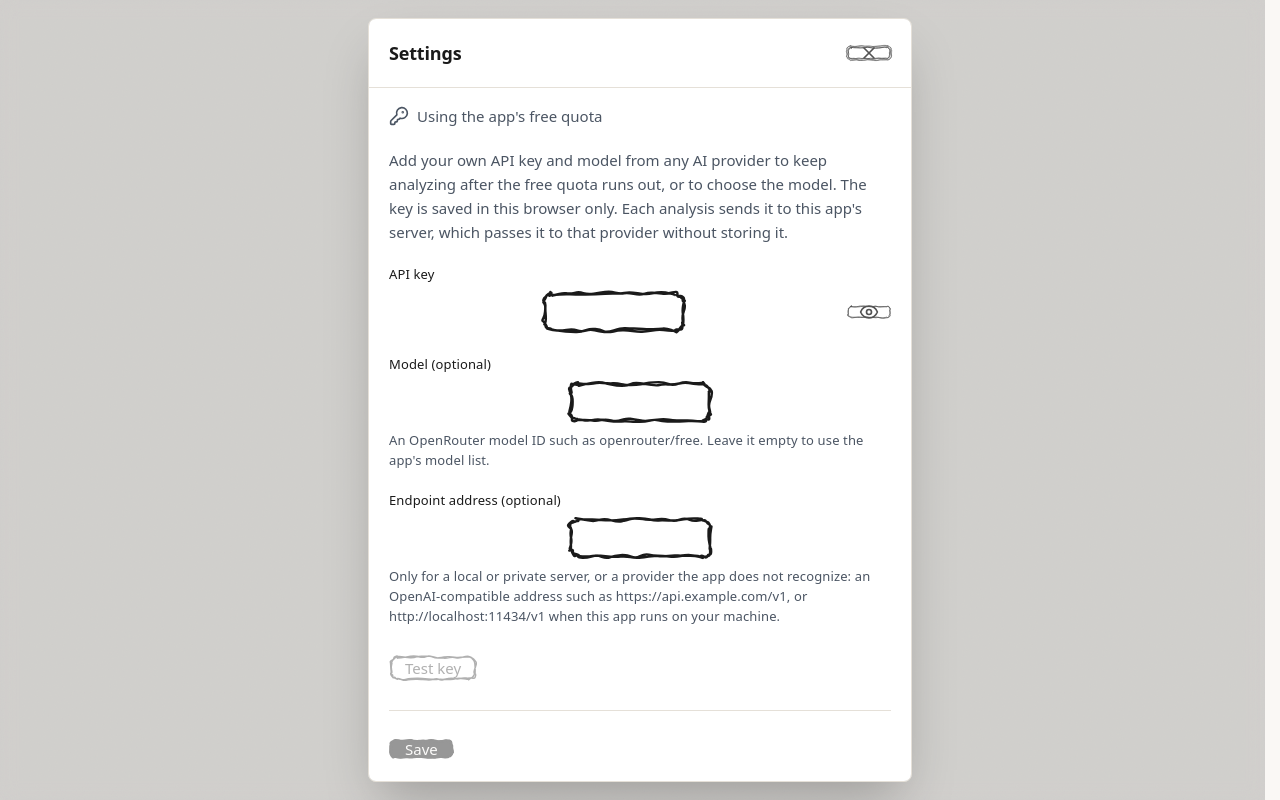
Scenario: ByokModal (FEAT-05, StyleGuide §7.3) › asks for the address instead of guessing when it does not recognize the key (AC-05.8)
The width and height of the screenshot is (1280, 800).
Type "mystery-key-0000" into the password field labelled "API key".
click(614, 312); type("mystery-key-0000")  # box x1=389 y1=290 x2=839 y2=334
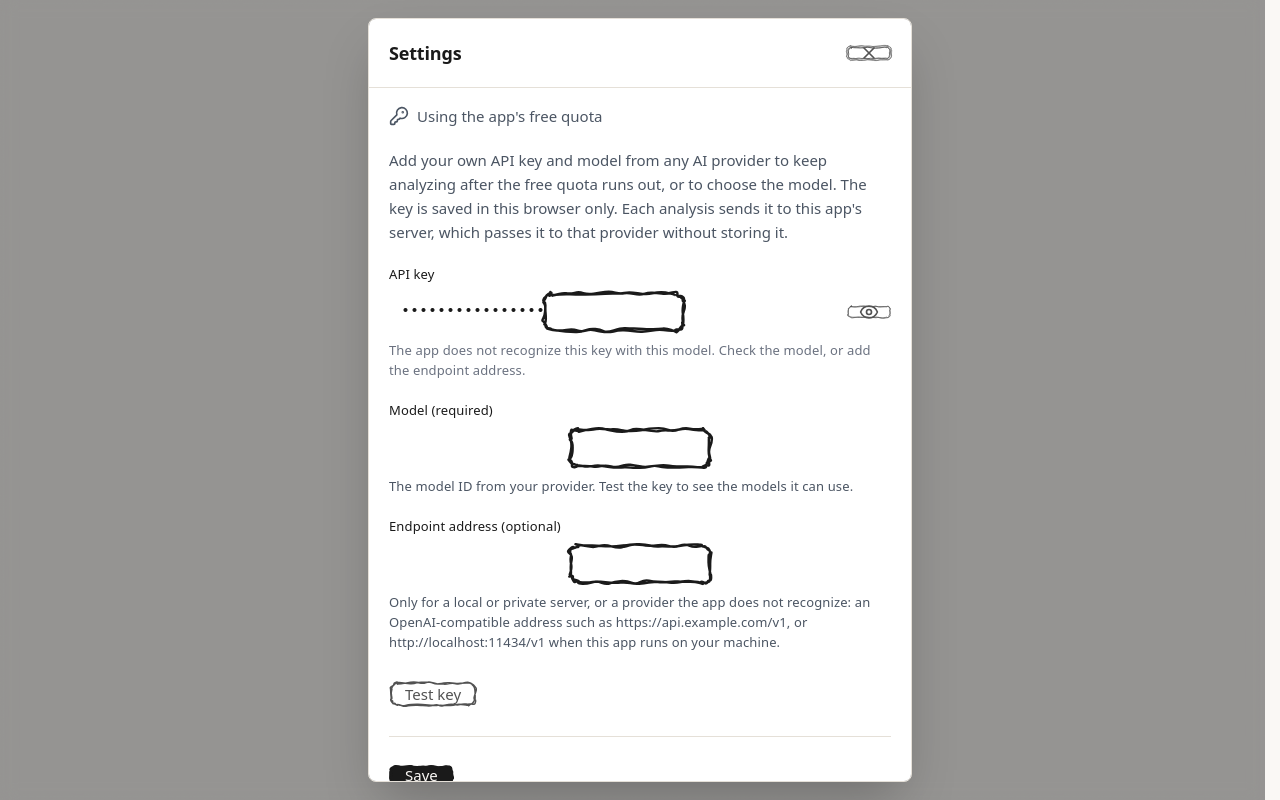
Type "llama3" into the field labelled "Model (required)".
click(640, 448); type("llama3")  # box x1=389 y1=426 x2=891 y2=470
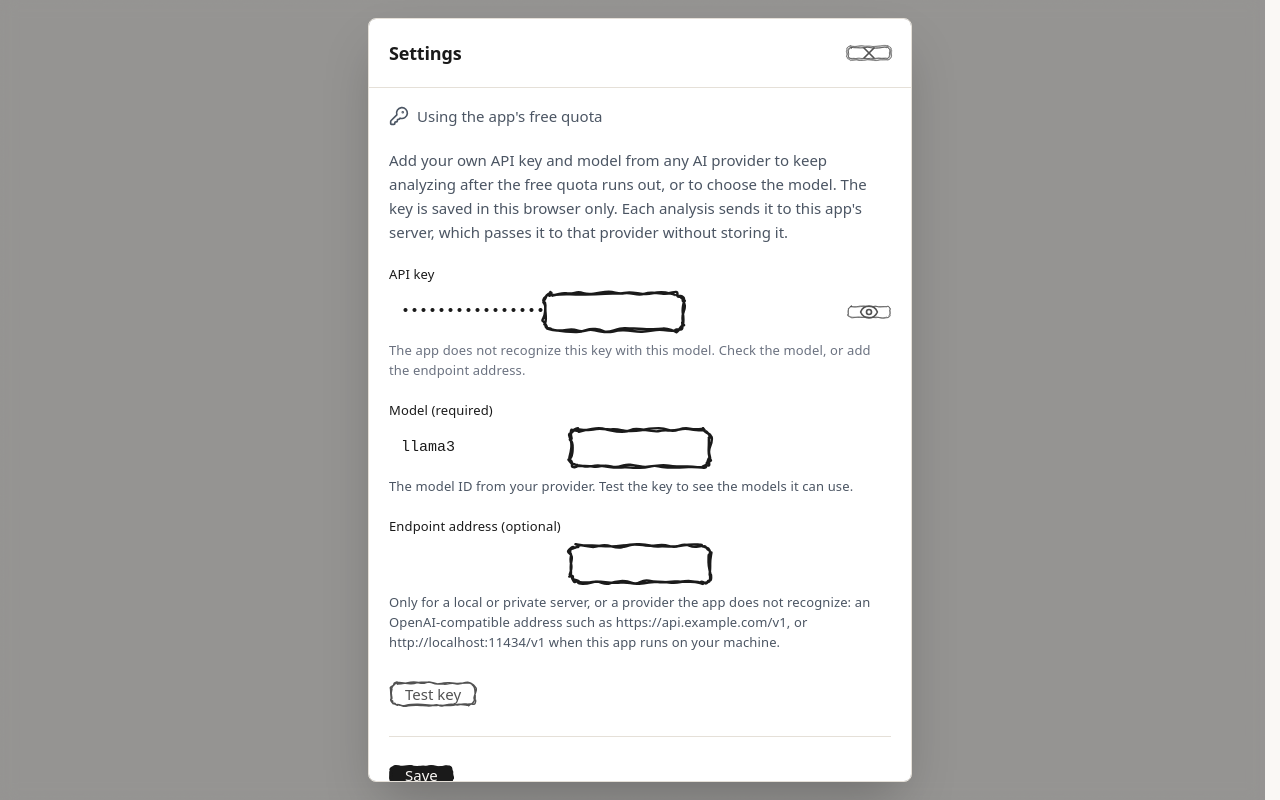
Click the button "Save".
click(421, 775)  # box x1=389 y1=753 x2=454 y2=797
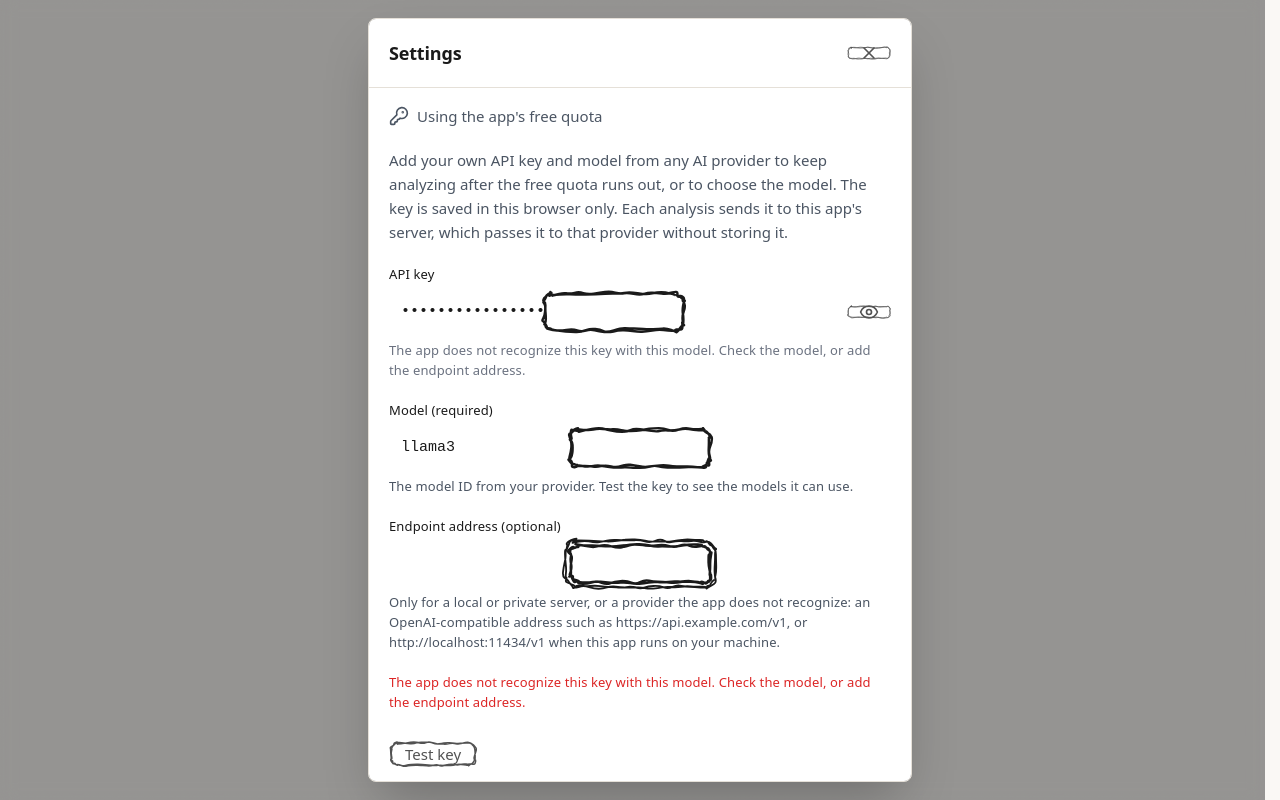
Result: the 2nd message shows "The app does not recognize this key with this model." at x1=389 y1=673 x2=871 y2=711
Type "http://localhost:11434/v1" into the field labelled "Endpoint address (optional)".
click(640, 564); type("http://localhost:11434/v1")  # box x1=389 y1=542 x2=891 y2=586
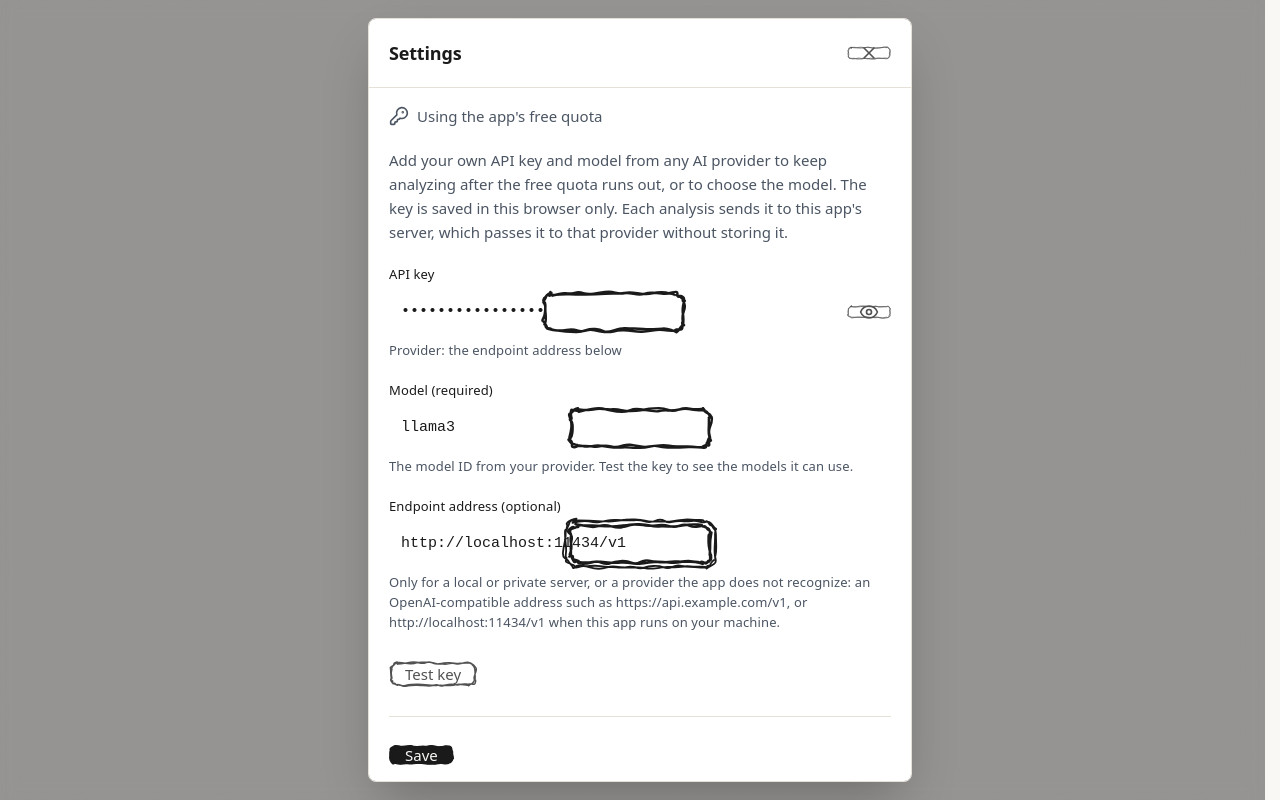
Result: the text "Provider: the endpoint address below" is shown at x1=389 y1=341 x2=622 y2=359
Click the button "Save".
click(421, 755)  # box x1=389 y1=733 x2=454 y2=777
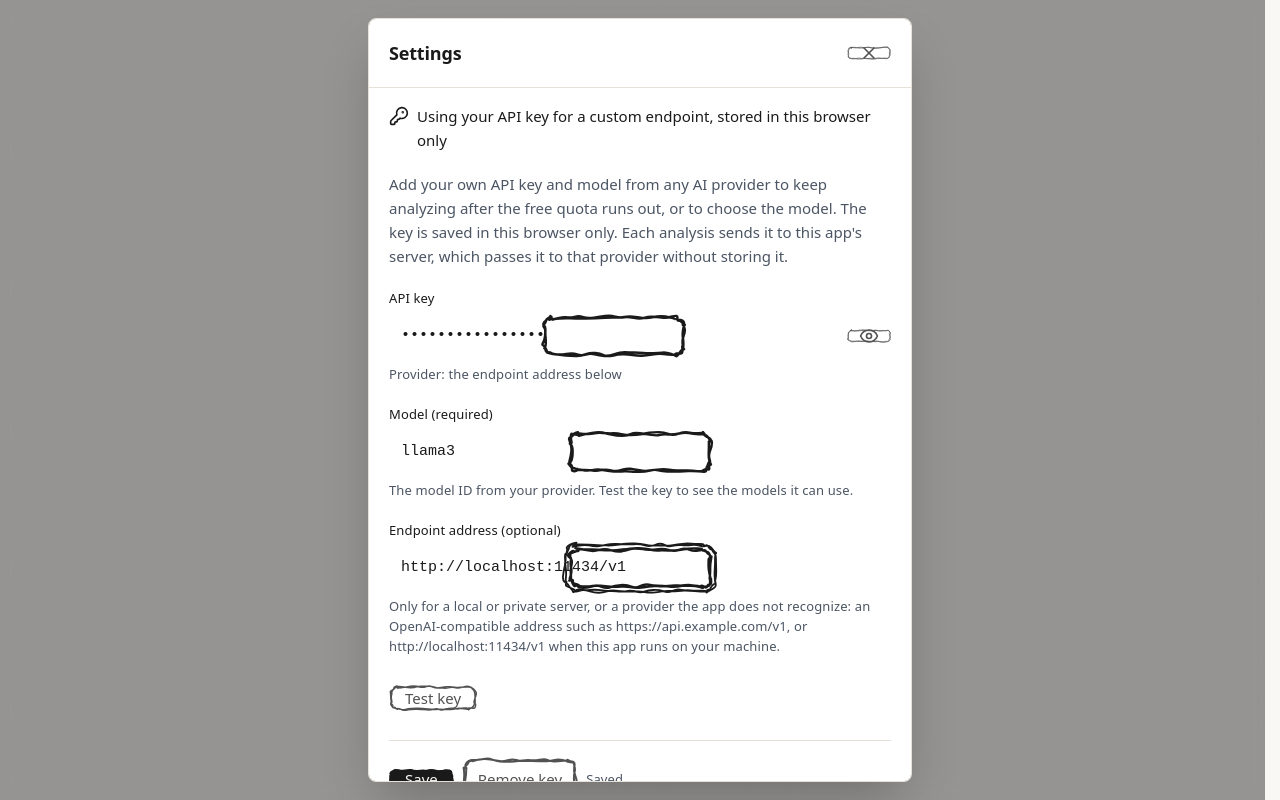
Result: the text "Using your API key for a custom endpoint, stored in this browser only" is shown at x1=389 y1=104 x2=891 y2=152
